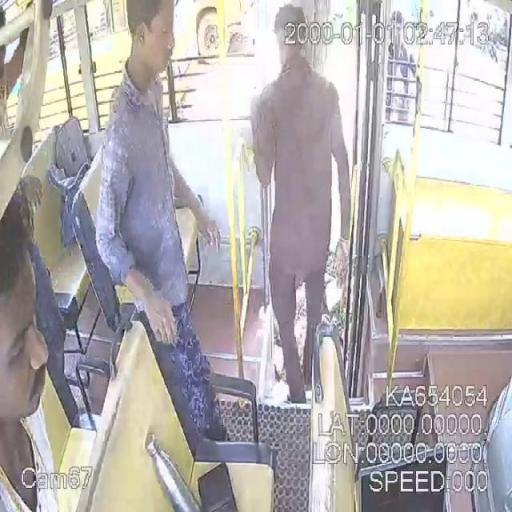persona: (93, 1, 225, 442), (248, 4, 352, 404), (0, 177, 60, 511)
